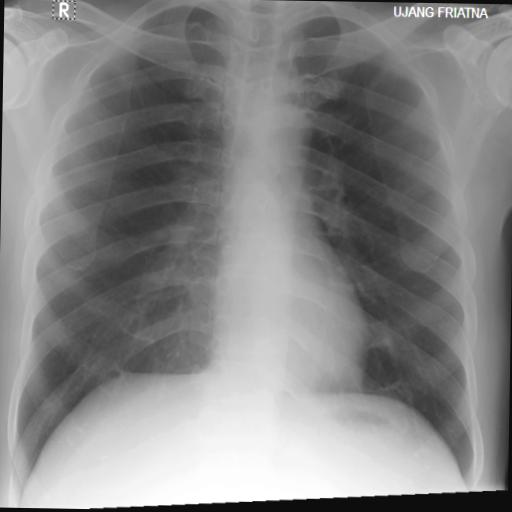normal: (4, 7, 492, 489)
